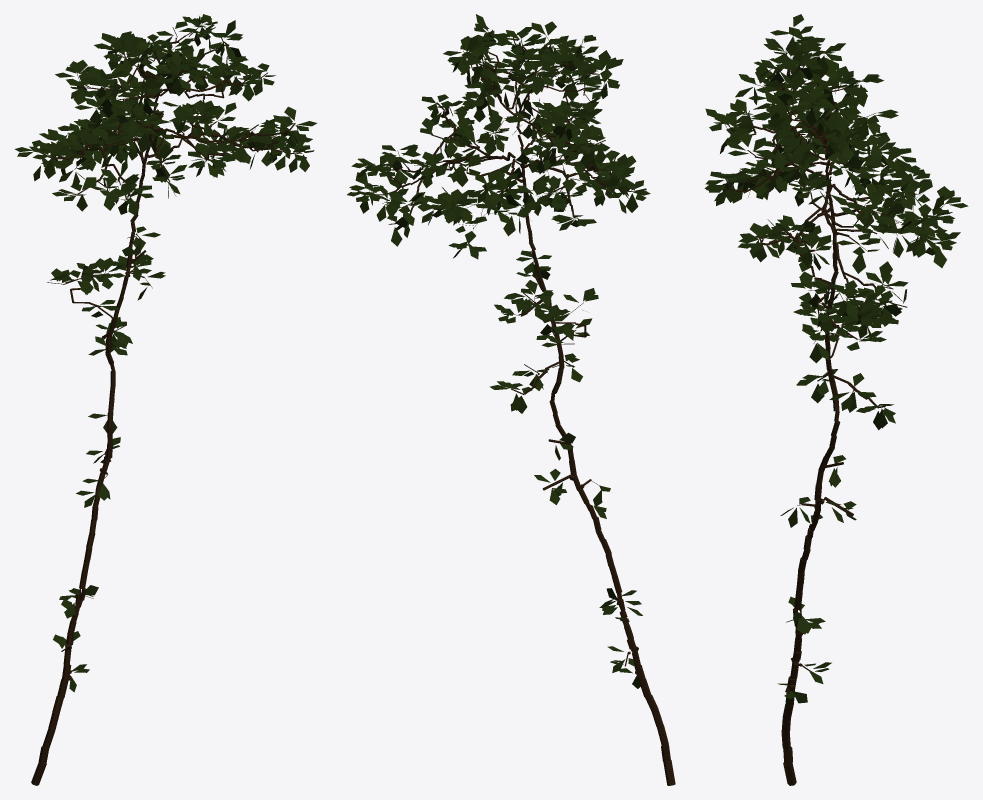
Rendered from tree_433.obj.
3 renders of one model, left to right at view 1: azimuth 30°, elevation 25°; view 2: azimuth 150°, elevation 25°; view 3: azimuth 270°, elevation 25°, orthographic. The views are drawn at different scales.
Parts seen in each view (by area): view 1: Leaves, TrunkAndBranches; view 2: Leaves, TrunkAndBranches; view 3: Leaves, TrunkAndBranches.
Part boxes in pixels (<box>): Leaves: <box>14,14,317,692</box>; TrunkAndBranches: <box>31,24,305,785</box>; Leaves: <box>347,14,650,688</box>; TrunkAndBranches: <box>369,29,675,785</box>; Leaves: <box>704,14,968,708</box>; TrunkAndBranches: <box>724,29,944,785</box>.
Size of the model in its own units: 4.81 by 11.43 by 3.38.
